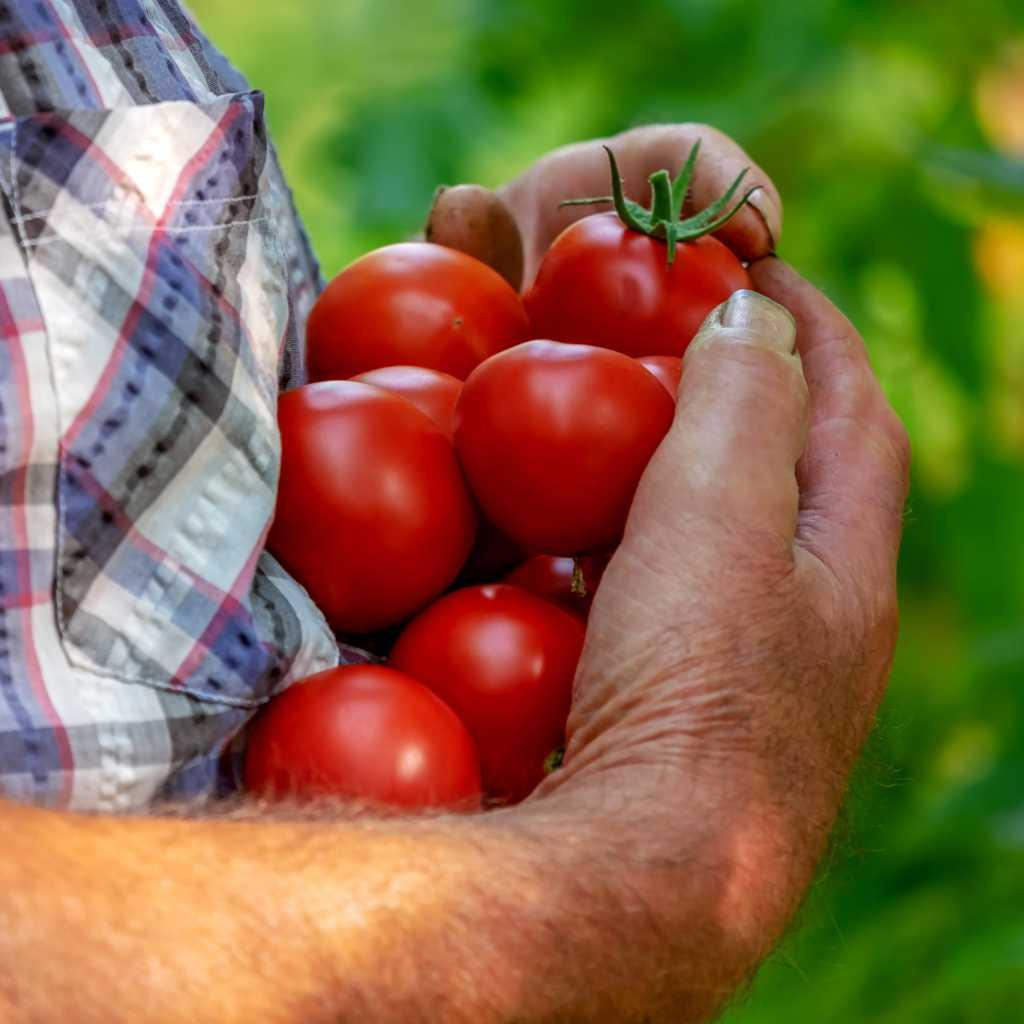healthy-tomato: (265, 371, 493, 659), (524, 140, 777, 391), (459, 341, 677, 556), (383, 583, 588, 803), (302, 244, 541, 387), (267, 665, 486, 820)
